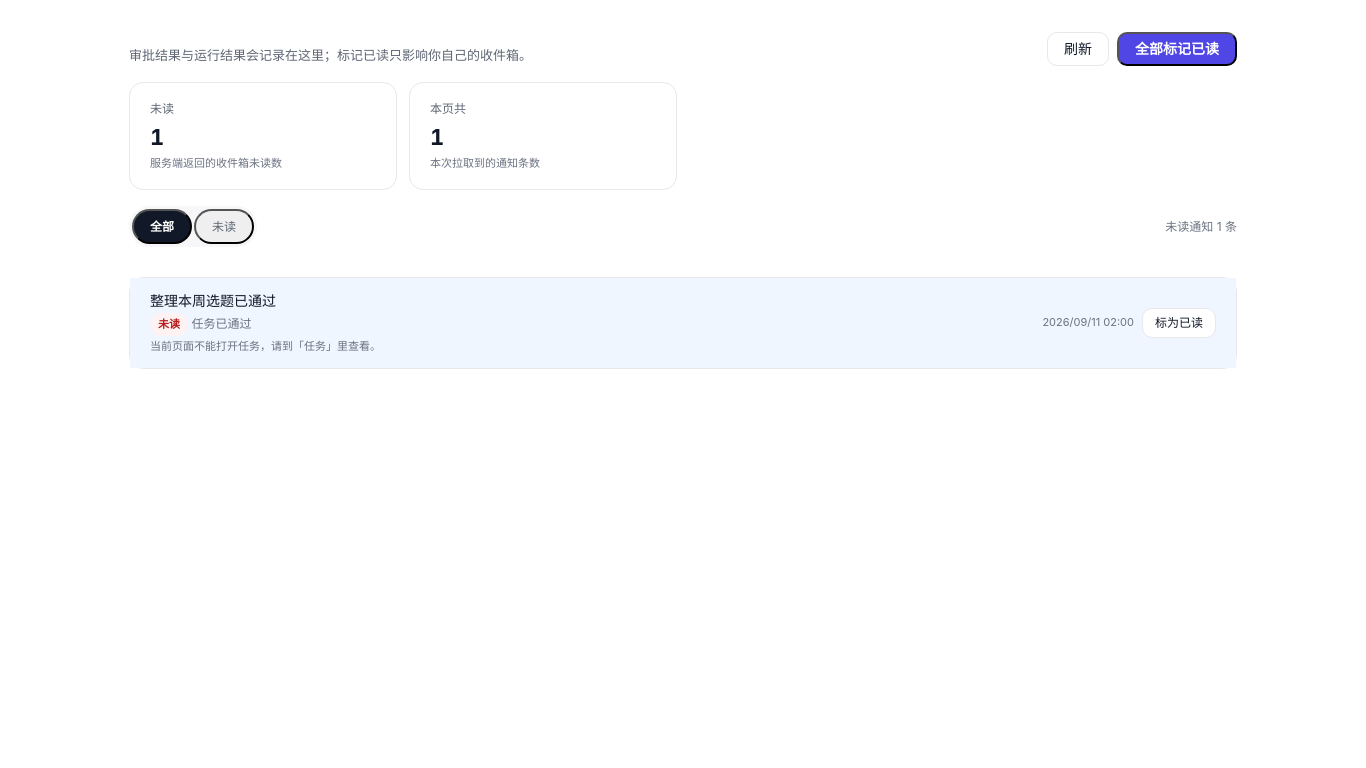
Test case: InboxPage › marks all notifications as read
Expected: the text "整理本周选题已通过" is shown, [150, 292, 276, 309]
What coordinates should you click on to do the following:
click the button "全部标记已读"
I would click on:
 (1177, 49)
Its box is [1117, 32, 1237, 66].
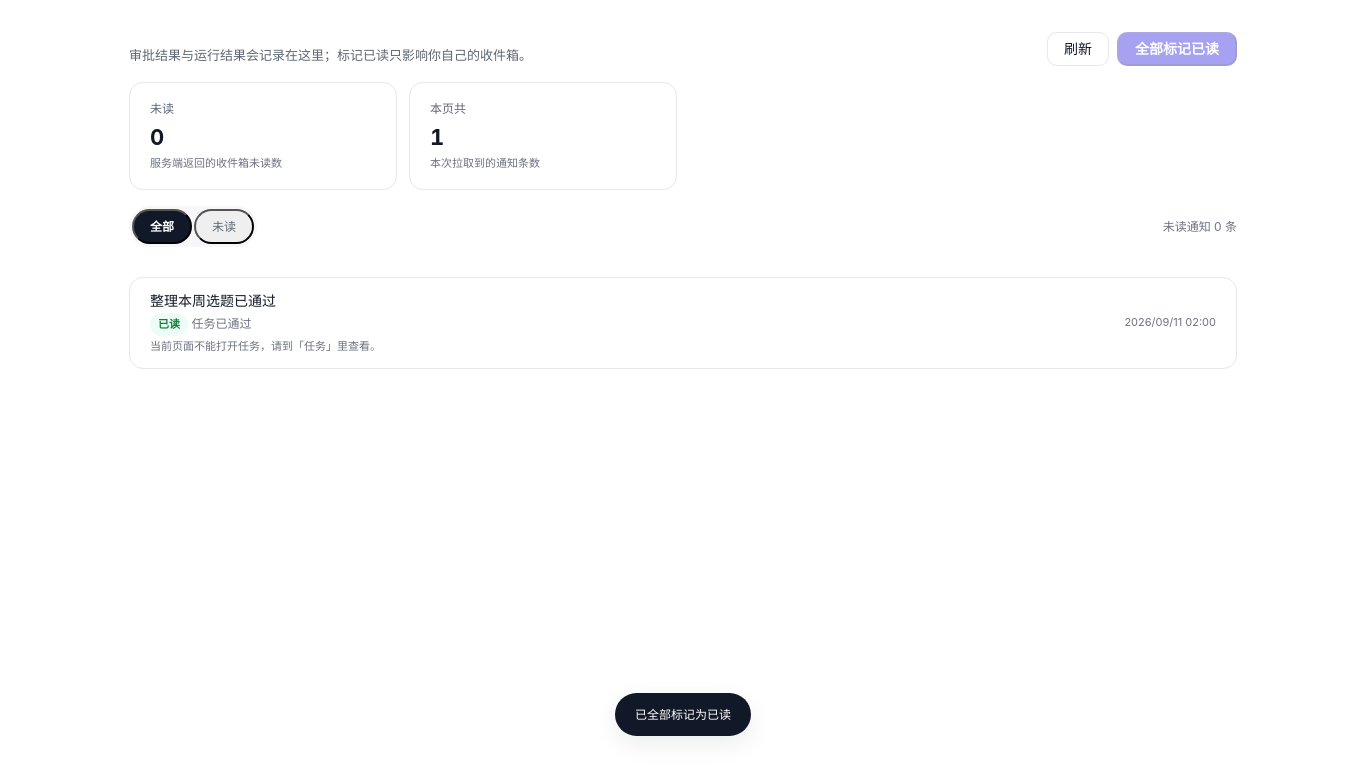
Result: the text "未读通知 0 条" is shown at [1163, 217, 1237, 236]
